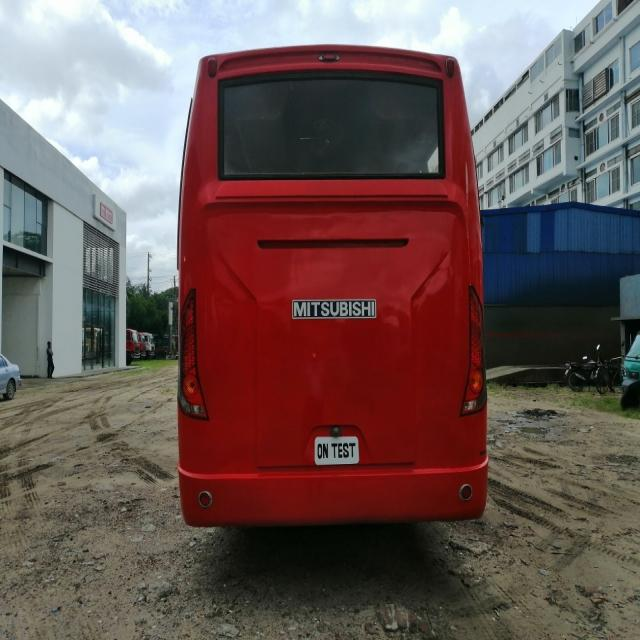bus: (134, 17, 519, 558)
